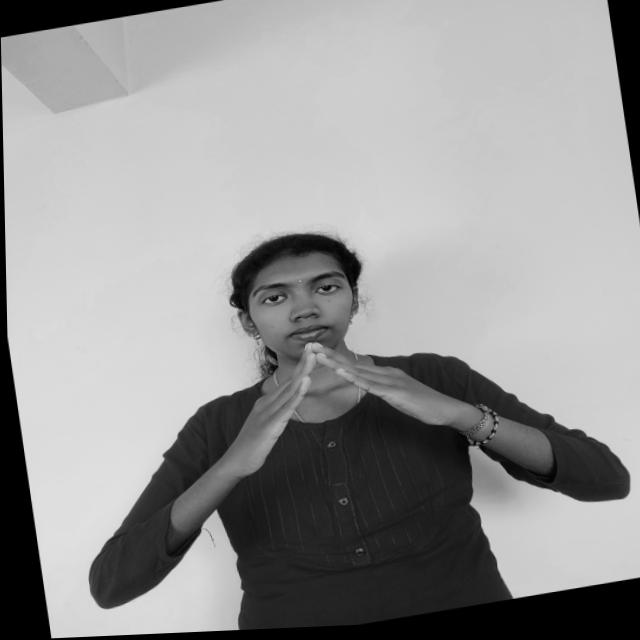Home: (193, 314, 475, 488)
